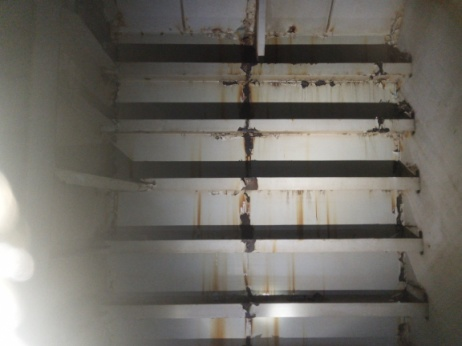corrosion: (227, 116, 269, 156), (229, 64, 263, 106), (293, 67, 343, 92), (219, 14, 258, 43), (219, 172, 265, 192), (225, 198, 261, 223), (201, 314, 229, 346), (233, 318, 270, 341), (238, 260, 258, 300), (284, 192, 310, 222), (184, 192, 206, 225), (393, 192, 415, 222), (202, 260, 225, 288), (388, 251, 408, 283), (385, 316, 413, 337), (366, 120, 394, 141), (365, 62, 390, 83), (235, 300, 262, 319), (287, 264, 307, 289), (239, 229, 259, 249), (280, 22, 301, 39)
